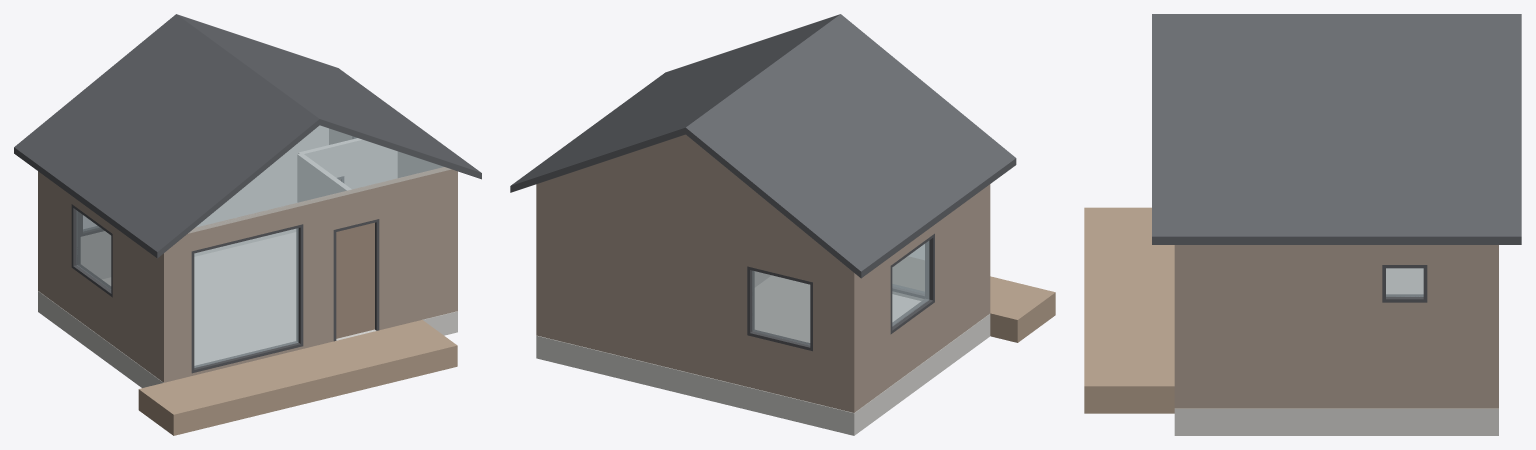
File: pod-habitable.glb
The picture shows the model from 3 angles, left to right: view 1: azimuth 30°, elevation 25°; view 2: azimuth 150°, elevation 25°; view 3: azimuth 270°, elevation 25°; orthographic projection. The views are drawn at different scales.
Visible parts, largest first — view 1: Faldón O · Chapa techo, Muro S · Revestimiento madera, Deck 1 · Deck madera, Ventana S1 · Vidrio, Muro O · Revestimiento madera, Piso · Piso, Faldón E · Chapa techo, Frontón vidriado S · Vidrio, Muro N · Interior blanco, Puerta S1 · Puerta madera, Platea · Hormigón, Tabique 1 · Interior blanco (+7 smaller); view 2: Muro N · Revestimiento madera, Faldón O · Chapa techo, Muro O · Revestimiento madera, Faldón E · Chapa techo, Platea · Hormigón, Deck 1 · Deck madera, Ventana N1 · Vidrio, Piso · Piso, Ventana O1 · Vidrio, Ventana N1 · Aluminio negro, Ventana O1 · Aluminio negro, Ventana S1 · Vidrio (+1 smaller); view 3: Faldón E · Chapa techo, Muro E · Revestimiento madera, Deck 1 · Deck madera, Platea · Hormigón, Muro N · Revestimiento madera, Muro S · Revestimiento madera, Ventana E1 · Vidrio, Piso · Piso, Ventana E1 · Aluminio negro.
Part boxes in pixels (bbox=[...]): Faldón O · Chapa techo: bbox=[14, 14, 319, 258]; Muro S · Revestimiento madera: bbox=[159, 167, 457, 382]; Deck 1 · Deck madera: bbox=[138, 320, 457, 435]; Ventana S1 · Vidrio: bbox=[194, 228, 298, 367]; Muro O · Revestimiento madera: bbox=[42, 174, 159, 379]; Piso · Piso: bbox=[102, 232, 295, 365]; Faldón E · Chapa techo: bbox=[177, 14, 481, 179]; Frontón vidriado S · Vidrio: bbox=[188, 125, 450, 233]; Muro N · Interior blanco: bbox=[81, 125, 328, 278]; Puerta S1 · Puerta madera: bbox=[336, 222, 374, 338]; Platea · Hormigón: bbox=[38, 291, 457, 387]; Tabique 1 · Interior blanco: bbox=[298, 138, 397, 188]; Muro N · Revestimiento madera: bbox=[536, 134, 858, 412]; Faldón O · Chapa techo: bbox=[685, 14, 1016, 278]; Muro O · Revestimiento madera: bbox=[859, 187, 985, 409]; Faldón E · Chapa techo: bbox=[510, 14, 839, 192]; Platea · Hormigón: bbox=[536, 314, 990, 435]; Deck 1 · Deck madera: bbox=[893, 257, 1055, 342]; Ventana N1 · Vidrio: bbox=[752, 271, 810, 345]; Piso · Piso: bbox=[755, 275, 920, 342]; Ventana O1 · Vidrio: bbox=[892, 241, 929, 326]; Ventana N1 · Aluminio negro: bbox=[747, 266, 812, 351]; Ventana O1 · Aluminio negro: bbox=[890, 233, 934, 334]; Ventana S1 · Vidrio: bbox=[892, 244, 924, 293]; Faldón E · Chapa techo: bbox=[1152, 14, 1521, 244]; Muro E · Revestimiento madera: bbox=[1186, 245, 1487, 408]; Deck 1 · Deck madera: bbox=[1084, 207, 1174, 413]; Platea · Hormigón: bbox=[1174, 408, 1498, 435]; Muro N · Revestimiento madera: bbox=[1487, 245, 1498, 408]; Muro S · Revestimiento madera: bbox=[1174, 245, 1185, 408]; Ventana E1 · Vidrio: bbox=[1386, 268, 1423, 296]; Piso · Piso: bbox=[1386, 268, 1423, 293]; Ventana E1 · Aluminio negro: bbox=[1382, 265, 1427, 302].
Bounding box in the file's own units: 6.6 × 4.82 × 5.8.
